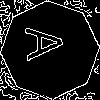A: (25, 25, 73, 62)
